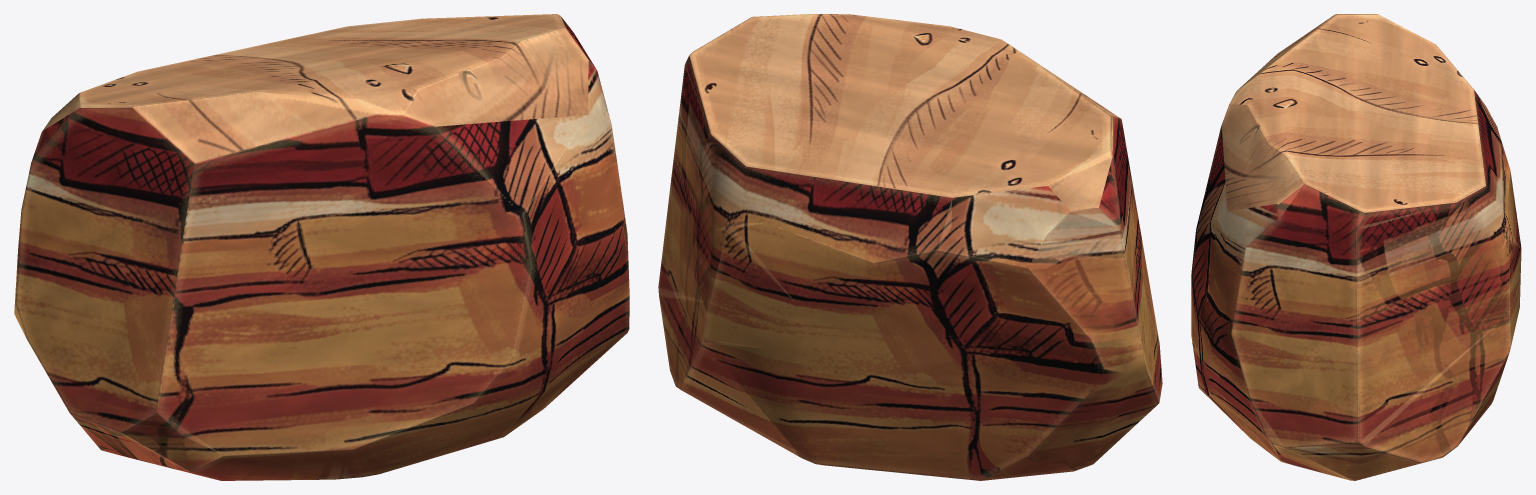
File: rock_04.glb
The picture shows the model from 3 angles, left to right: view 1: azimuth 30°, elevation 25°; view 2: azimuth 150°, elevation 25°; view 3: azimuth 270°, elevation 25°; orthographic projection. The views are drawn at different scales.
Parts seen in each view (by area): view 1: rock_04; view 2: rock_04; view 3: rock_04.
Part boxes in pixels (left/top/right/bottom): rock_04: left=14, top=14, right=629, bottom=480; rock_04: left=658, top=14, right=1162, bottom=480; rock_04: left=1191, top=14, right=1521, bottom=480.
Bounding box in the file's own units: 1.26 × 0.8199 × 0.7995.
1 material, 1 textured.
